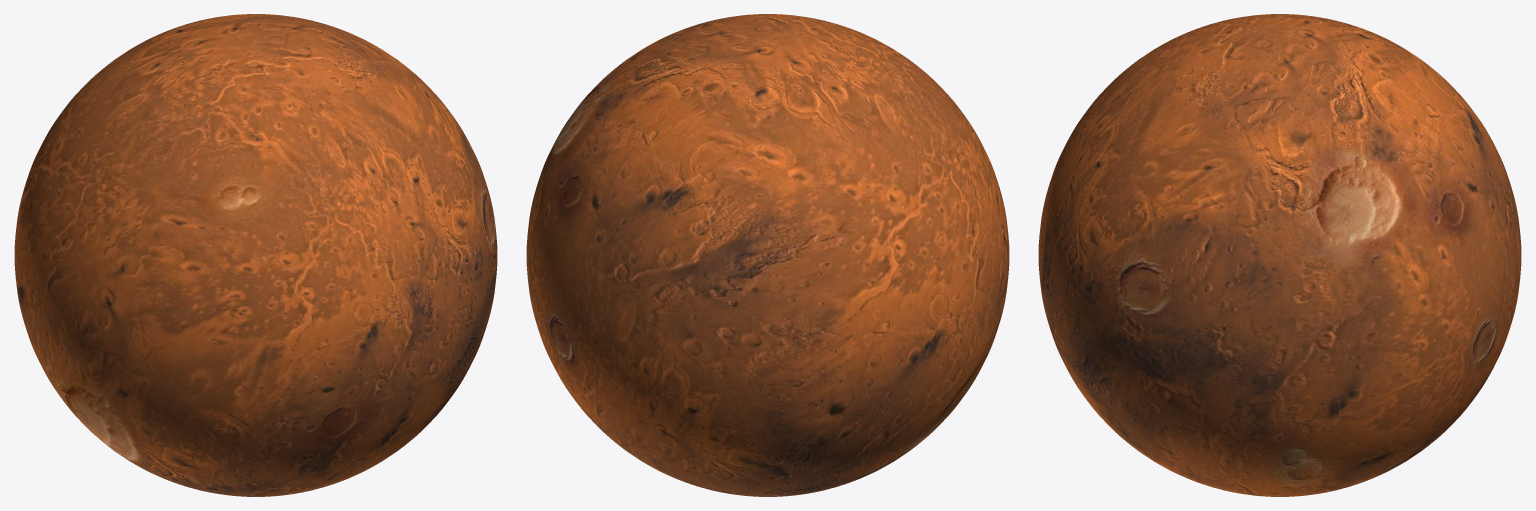
Rendered from huoxing.fbx.
3 renders of one model, left to right at view 1: azimuth 30°, elevation 25°; view 2: azimuth 150°, elevation 25°; view 3: azimuth 270°, elevation 25°, orthographic.
Parts seen in each view (by area): view 1: pSphere1; view 2: pSphere1; view 3: pSphere1.
Part boxes in pixels (x1,y1,x2,y2): pSphere1: (14, 14, 497, 496); pSphere1: (526, 14, 1009, 496); pSphere1: (1038, 14, 1521, 496).
Bounding box in the file's own units: 12.96 × 12.96 × 12.96.
Materials: 1 (1 with a texture image).
